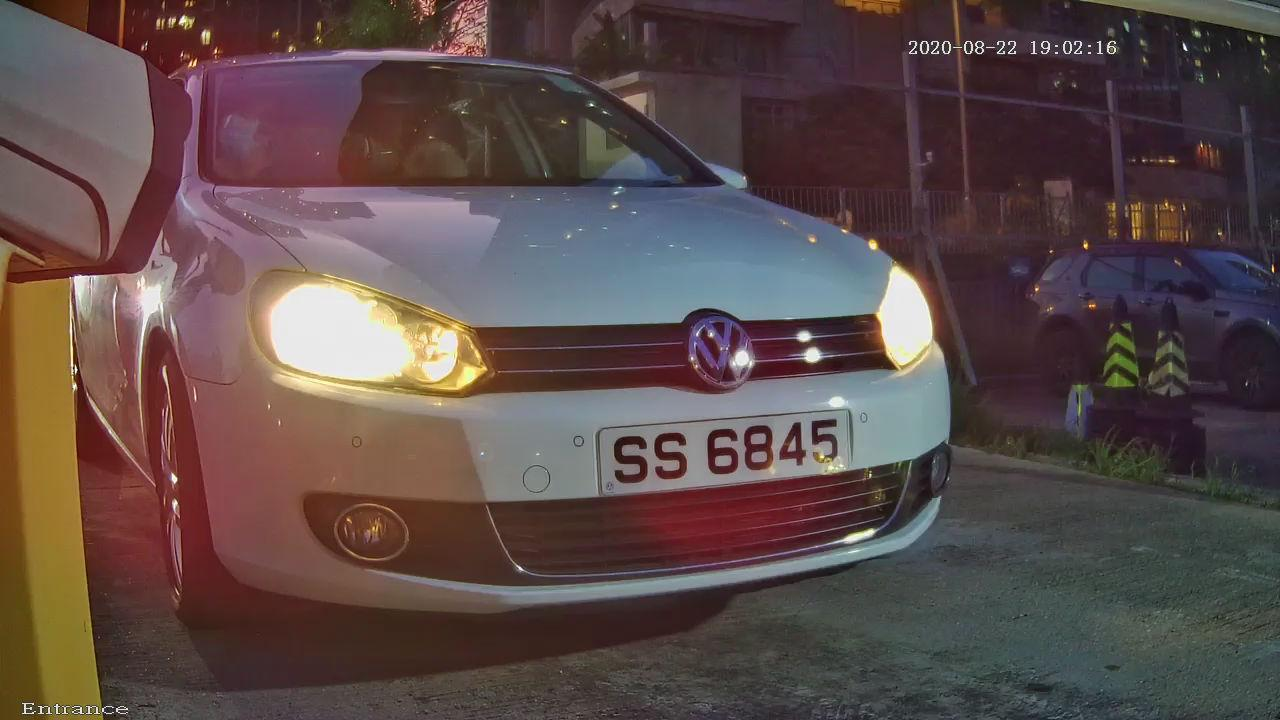Car: (63, 23, 1086, 659)
License Plate: (546, 381, 899, 536)
